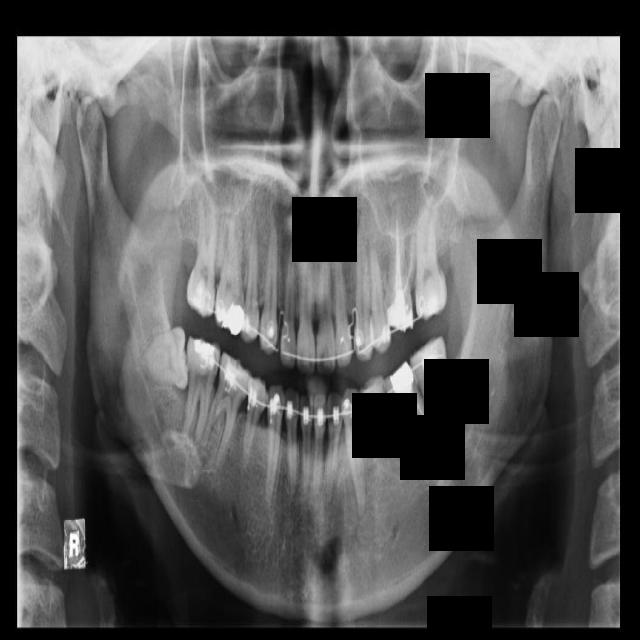52: (375, 361, 427, 412), (210, 283, 250, 337), (180, 334, 225, 380), (183, 267, 219, 319), (384, 289, 415, 333)
73: (389, 384, 442, 466), (387, 187, 419, 292), (580, 546, 580, 570)
BioHorizons Implant: (414, 177, 449, 321)
Blue Sky Bio Implant: (407, 335, 460, 452)
Caries: (186, 196, 218, 319)
Keystone Dental Implant: (137, 327, 188, 391)
